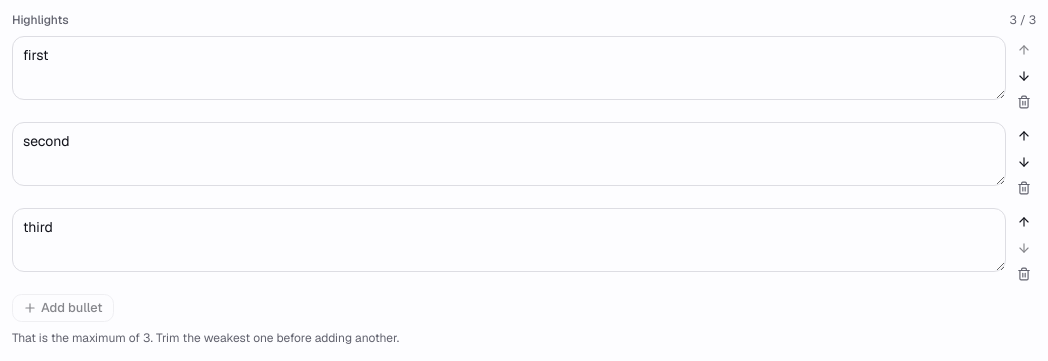
Test case: BulletListField › removes the bullet the button belongs to, not the last one
Click the button named "Remove Highlights 2": (1024, 188) [1012,176,1036,200]
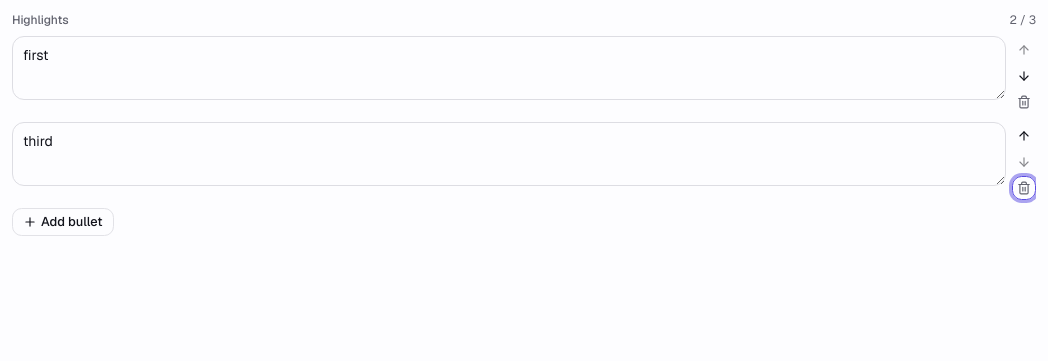
Expected: the text box named "Highlights 1" holds "first", [12,36,1006,100]
Result: the text box named "Highlights 2" holds "third" at [12,122,1006,186]
